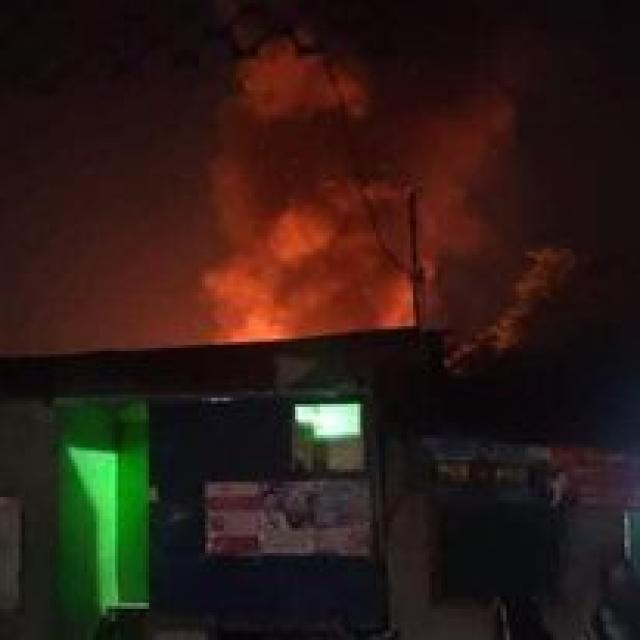Smoke: (183, 3, 508, 329)
